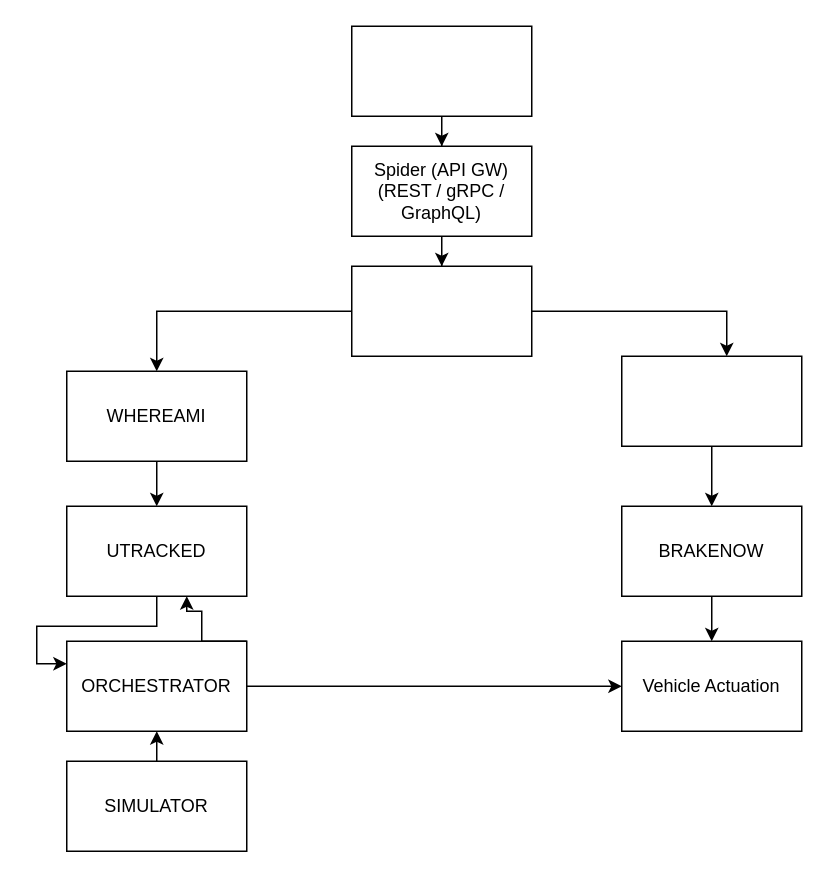
Image size: 828x878. Some labels were removed from this diagram. Each missing label, with the centre of its shape:
Message Broker RabbitMQ: the point at 441,310
SONAR: the point at 711,400
Storefront (Web Dashboard UI): the point at 441,70
